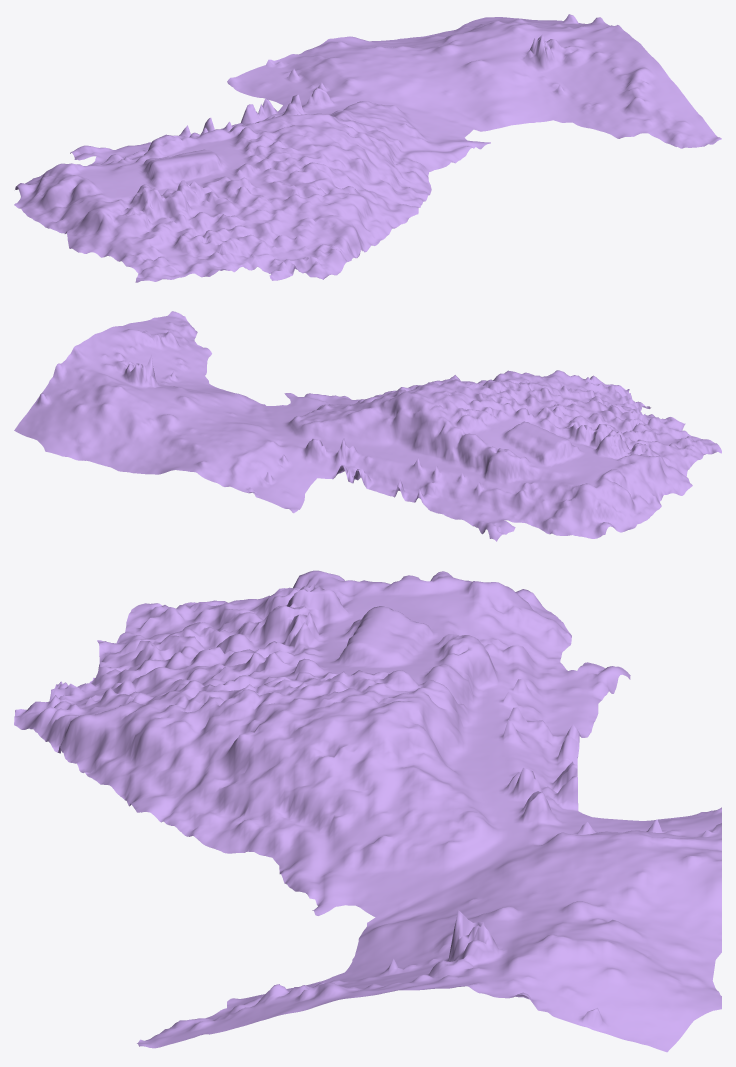
Rendered from Triassic.dae.
The picture shows the model from 3 angles, top to bottom: view 1: azimuth 30°, elevation 25°; view 2: azimuth 150°, elevation 25°; view 3: azimuth 270°, elevation 25°; orthographic projection. The views are drawn at different scales.
Visible parts, largest first — view 1: Triassic; view 2: Triassic; view 3: Triassic.
Part boxes in pixels (left/top/right/bottom): Triassic: left=14, top=14, right=721, bottom=282; Triassic: left=14, top=311, right=721, bottom=541; Triassic: left=14, top=570, right=721, bottom=1052.
Bounding box in the file's own units: 85.44 × 55.48 × 7.91.
